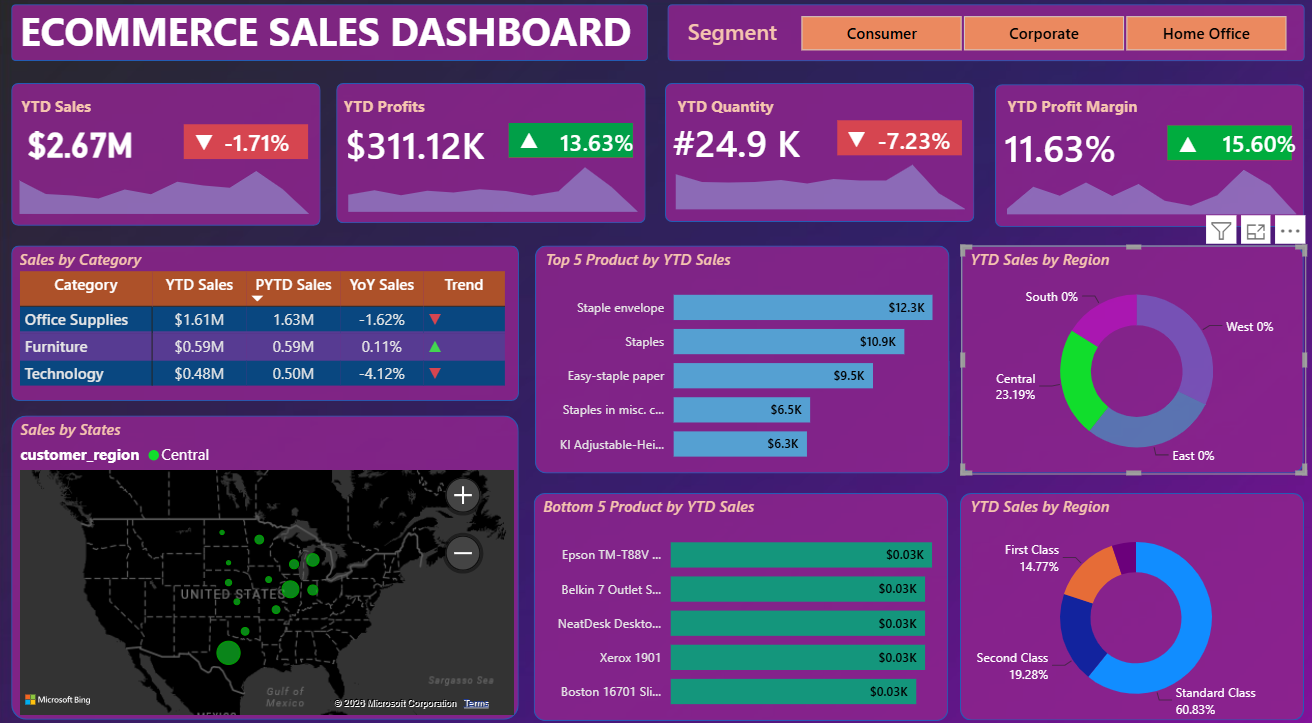

What the dashboard file says about the page in this screenshot:
{"tool":"powerbi","page":{"name":"Page 1","canvas":[1280,720],"ordinal":0},"visuals":[{"type":"shape","box":[15.1,15.1,614.8,54.9],"z":0},{"type":"textbox","box":[24.7,15.1,614.8,54.9],"z":1000},{"type":"shape","box":[15.1,248.4,490,150],"z":2000},{"type":"shape","box":[15.2,91.9,298.7,137.9],"z":3000},{"type":"pivotTable","title":"Sales by Category","fields":{"Rows":["ecommerce_data.category_name"],"Values":["ecommerce_data.YTD Sales","ecommerce_data.PYTD Sales","ecommerce_data.YoY Sales","ecommerce_data.Sales icon"]},"box":[22,248.4,480.3,149.6],"z":4000},{"type":"cardVisual","fields":{"Data":["ecommerce_data.YTD Sales"]},"box":[15.2,131.8,166.7,39.7],"z":5000},{"type":"areaChart","fields":{"Category":["Calender.Month"],"Y":["Sum(ecommerce_data.sales_per_order)"]},"box":[0,165.1,325.7,54.8],"z":6000},{"type":"shape","box":[15.1,413,489.9,293.7],"z":7000},{"type":"map","title":"Sales by States","fields":{"Series":["ecommerce_data.customer_region"],"Size":["ecommerce_data.YTD Sales"],"X":["us_state_long_lat_codes.longitude"],"Y":["us_state_long_lat_codes.latitude"]},"box":[8.2,413,509,305],"z":8000},{"type":"shape","box":[182.3,131.8,119.8,33.2],"z":9000},{"type":"shape","box":[521.4,248.4,400,220],"z":10000},{"type":"cardVisual","fields":{"Data":["ecommerce_data.YoY Sales"]},"box":[202.5,136.8,126.6,34.9],"z":11000},{"type":"shape","box":[520.1,487.1,400,220],"z":12000},{"type":"cardVisual","fields":{"Data":["ecommerce_data.Sales icon"]},"box":[163.7,135.1,75.9,39.9],"z":13000},{"type":"barChart","title":"Top 5 Product by YTD Sales","fields":{"Category":["ecommerce_data.product_name"],"Y":["ecommerce_data.YTD Sales"]},"box":[529.7,248.4,377.4,219.6],"z":14000},{"type":"textbox","box":[25.3,103.6,86.1,28.3],"z":15000},{"type":"shape","box":[329.3,92.2,298.7,135.5],"z":16000},{"type":"barChart","title":"Bottom 5 Product by YTD Sales","fields":{"Category":["ecommerce_data.product_name"],"Y":["ecommerce_data.YTD Sales"]},"box":[521.4,487.1,385.6,219.6],"z":17000},{"type":"shape","box":[933.1,248.4,330.7,219.6],"z":18000},{"type":"cardVisual","fields":{"Data":["ecommerce_data.YTD Profit"]},"box":[317.3,126.8,197.5,46.5],"z":19000},{"type":"shape","box":[496.2,129.8,119.8,33.2],"z":20000},{"type":"shape","box":[931.7,487.1,332.1,219.6],"z":21000},{"type":"cardVisual","fields":{"Data":["ecommerce_data.YoY Profit"]},"box":[526.6,134.6,111.4,38.2],"z":22000},{"type":"cardVisual","fields":{"Data":["ecommerce_data.Profit icon"]},"box":[477.6,133.2,75.9,39.9],"z":23000},{"type":"donutChart","title":"YTD Sales by Region","fields":{"Category":["ecommerce_data.customer_region"],"Y":["ecommerce_data.YTD Sales"]},"box":[933.1,248.4,332.1,220.9],"z":24000},{"type":"donutChart","title":"YTD Sales by Region","fields":{"Category":["ecommerce_data.shipping_type"],"Y":["ecommerce_data.YTD Sales"]},"box":[933.1,487.1,330.7,219.6],"z":25000},{"type":"textbox","box":[336.3,103.2,109.7,26.6],"z":26000},{"type":"shape","box":[649.1,15.1,615,55],"z":27000},{"type":"areaChart","fields":{"Category":["Calender.Month"],"Y":["Sum(ecommerce_data.profit_per_order)"]},"box":[317.3,161.7,325.7,56.5],"z":28000},{"type":"shape","box":[646.1,92.2,298.7,134.1],"z":29000},{"type":"slicer","fields":{"Values":["ecommerce_data.customer_segment"]},"box":[757.5,16.5,507.7,53.5],"z":30000},{"type":"cardVisual","fields":{"Data":["ecommerce_data.YTD Concatenated Qty"]},"box":[633.9,124.8,197.5,46.5],"z":31000},{"type":"shape","box":[812.8,127.8,119.8,33.2],"z":32000},{"type":"cardVisual","fields":{"Data":["ecommerce_data.YoY Qty"]},"box":[833.7,133.3,111.4,38.2],"z":33000},{"type":"cardVisual","fields":{"Data":["ecommerce_data.Qty icon"]},"box":[794.2,131.2,75.9,39.9],"z":34000},{"type":"textbox","box":[658.6,103.2,109.7,26.6],"z":35000},{"type":"areaChart","fields":{"Category":["Calender.Month"],"Y":["Sum(ecommerce_data.order_quantity)"]},"box":[633.9,159.7,325.7,56.5],"z":36000},{"type":"shape","box":[965,92.6,298.7,137.9],"z":37000},{"type":"cardVisual","fields":{"Data":["ecommerce_data.YTD Profit margin"]},"box":[953.2,129.5,197.5,46.5],"z":38000},{"type":"shape","box":[1132.1,132.5,119.8,33.2],"z":39000},{"type":"cardVisual","fields":{"Data":["ecommerce_data.YoY Profit Margin"]},"box":[1167.2,136,111.4,38.2],"z":40000},{"type":"cardVisual","fields":{"Data":["ecommerce_data.Profit Margin icon"]},"box":[1113.5,135.8,75.9,39.9],"z":41000},{"type":"textbox","box":[976.8,103.2,173.7,27.4],"z":42000},{"type":"areaChart","fields":{"Category":["Calender.Month"],"Y":["ecommerce_data.Profit Margin"]},"box":[953.2,164.4,325.7,56.5],"z":43000},{"type":"textbox","box":[649.1,26.1,119.4,35.7],"z":44000}]}

Visuals, with their boxes in screenshot pixels (x1, y1, x2, y2), scaled from the page's 1280x720 canvas onto the 1312x723 screenshot:
shape: box(15, 15, 646, 70)
textbox: box(25, 15, 655, 70)
shape: box(15, 249, 518, 400)
shape: box(16, 92, 322, 231)
"Sales by Category" pivotTable: box(23, 249, 515, 400)
cardVisual - ecommerce_data.YTD Sales: box(16, 132, 186, 172)
areaChart - Calender.Month x Sum(ecommerce_data.sales_per_order): box(0, 166, 334, 221)
shape: box(15, 415, 518, 710)
"Sales by States" map: box(8, 415, 530, 721)
shape: box(187, 132, 310, 166)
shape: box(534, 249, 944, 470)
cardVisual - ecommerce_data.YoY Sales: box(208, 137, 337, 172)
shape: box(533, 489, 943, 710)
cardVisual - ecommerce_data.Sales icon: box(168, 136, 246, 176)
"Top 5 Product by YTD Sales" barChart: box(543, 249, 930, 470)
textbox: box(26, 104, 114, 132)
shape: box(338, 93, 644, 229)
"Bottom 5 Product by YTD Sales" barChart: box(534, 489, 930, 710)
shape: box(956, 249, 1295, 470)
cardVisual - ecommerce_data.YTD Profit: box(325, 127, 528, 174)
shape: box(509, 130, 631, 164)
shape: box(955, 489, 1295, 710)
cardVisual - ecommerce_data.YoY Profit: box(540, 135, 654, 174)
cardVisual - ecommerce_data.Profit icon: box(490, 134, 567, 174)
"YTD Sales by Region" donutChart: box(956, 249, 1297, 471)
"YTD Sales by Region" donutChart: box(956, 489, 1295, 710)
textbox: box(345, 104, 457, 130)
shape: box(665, 15, 1296, 70)
areaChart - Calender.Month x Sum(ecommerce_data.profit_per_order): box(325, 162, 659, 219)
shape: box(662, 93, 968, 227)
slicer - ecommerce_data.customer_segment: box(776, 17, 1297, 70)
cardVisual - ecommerce_data.YTD Concatenated Qty: box(650, 125, 852, 172)
shape: box(833, 128, 956, 162)
cardVisual - ecommerce_data.YoY Qty: box(855, 134, 969, 172)
cardVisual - ecommerce_data.Qty icon: box(814, 132, 892, 172)
textbox: box(675, 104, 788, 130)
areaChart - Calender.Month x Sum(ecommerce_data.order_quantity): box(650, 160, 984, 217)
shape: box(989, 93, 1295, 231)
cardVisual - ecommerce_data.YTD Profit margin: box(977, 130, 1179, 177)
shape: box(1160, 133, 1283, 166)
cardVisual - ecommerce_data.YoY Profit Margin: box(1196, 137, 1311, 175)
cardVisual - ecommerce_data.Profit Margin icon: box(1141, 136, 1219, 176)
textbox: box(1001, 104, 1179, 131)
areaChart - Calender.Month x ecommerce_data.Profit Margin: box(977, 165, 1311, 222)
textbox: box(665, 26, 788, 62)
